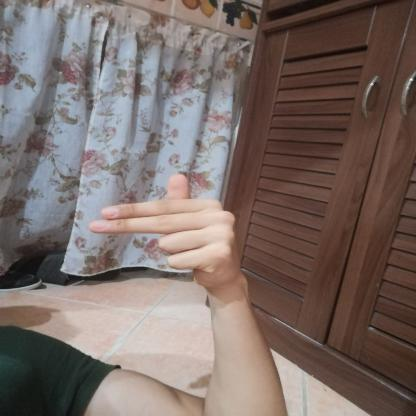GHAYN: (75, 166, 255, 297)
